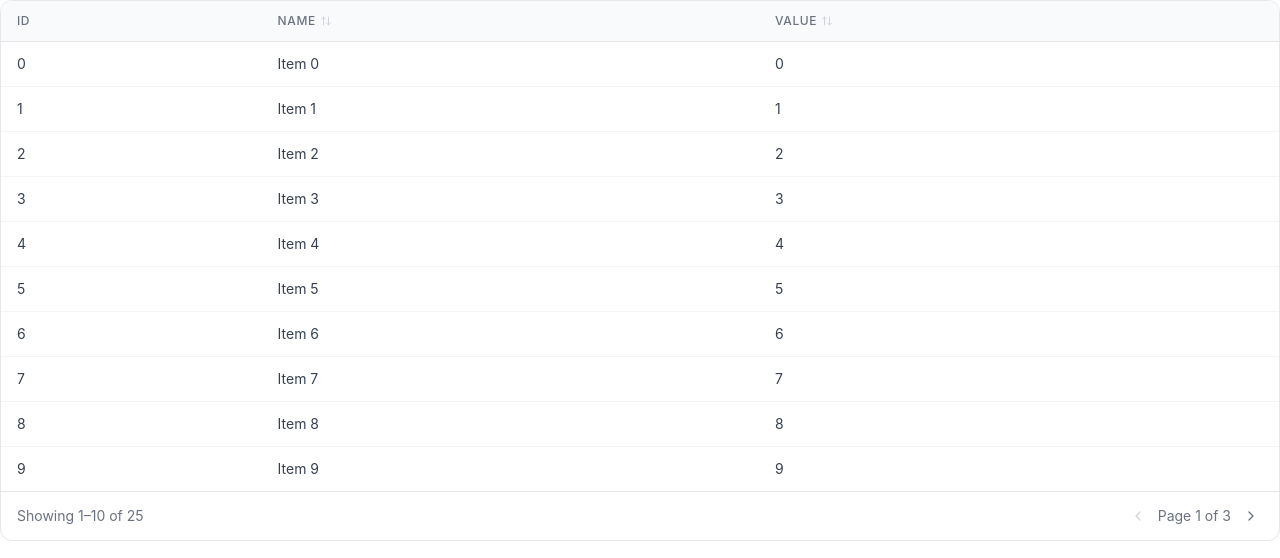
it: DataTable › navigates pages
Click the button with test id "next-page": (1251, 516) 1239,504 -> 1263,528
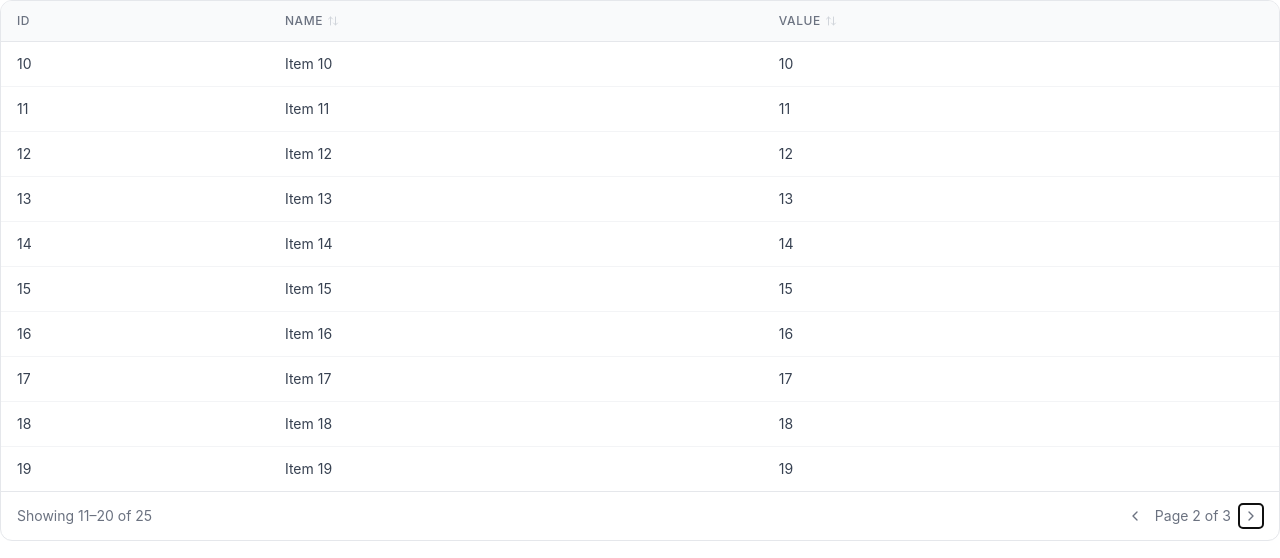
expect the text "Page 2 of 3" is shown: met, box 1155,506 -> 1231,526
